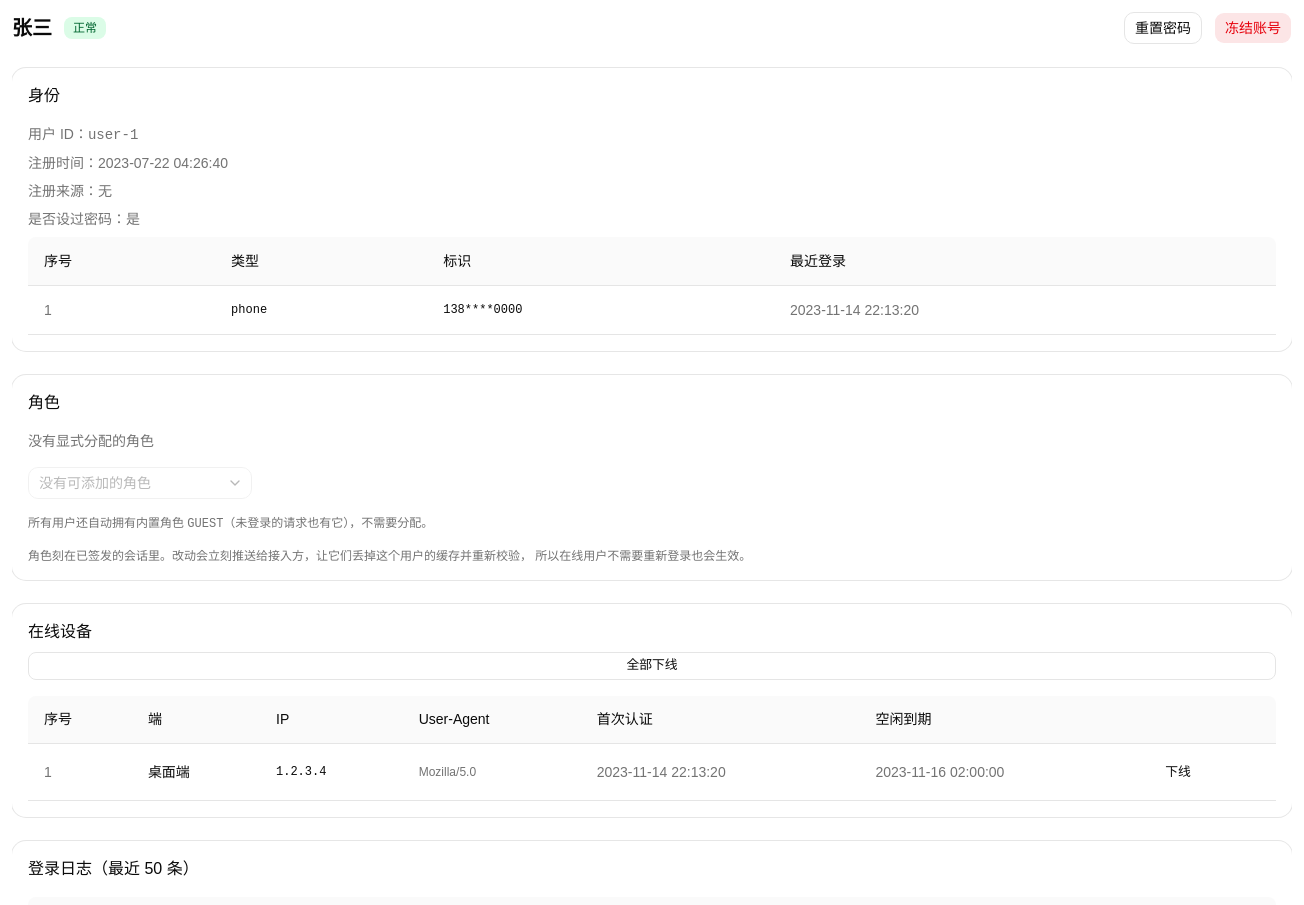
Scenario: 踢单个设备成功后，设备列表被重新拉取
Check: the heading "张三" is shown, box [12, 14, 52, 42]
Check: the text "1.2.3.4" is shown, box [260, 744, 403, 800]
Click the button "下线". click: (1178, 772)
box: [1154, 758, 1202, 786]
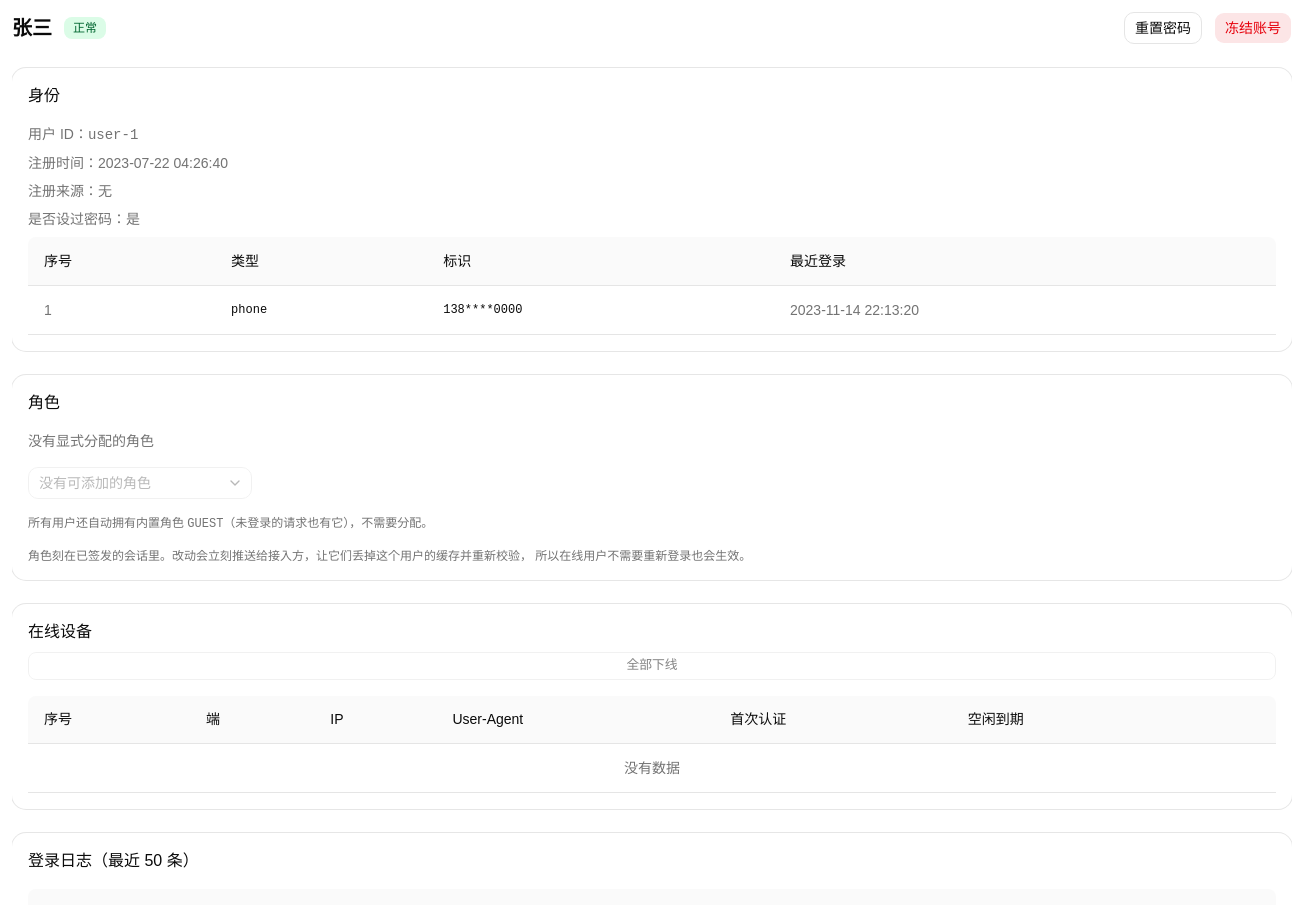
Check: the text "没有数据" is shown, box [28, 744, 1276, 792]
